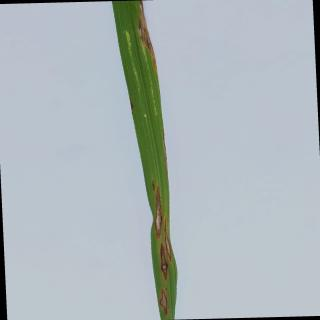Blast: (136, 1, 158, 74), (154, 187, 164, 240), (162, 217, 172, 261), (158, 288, 170, 316), (160, 242, 168, 282)
